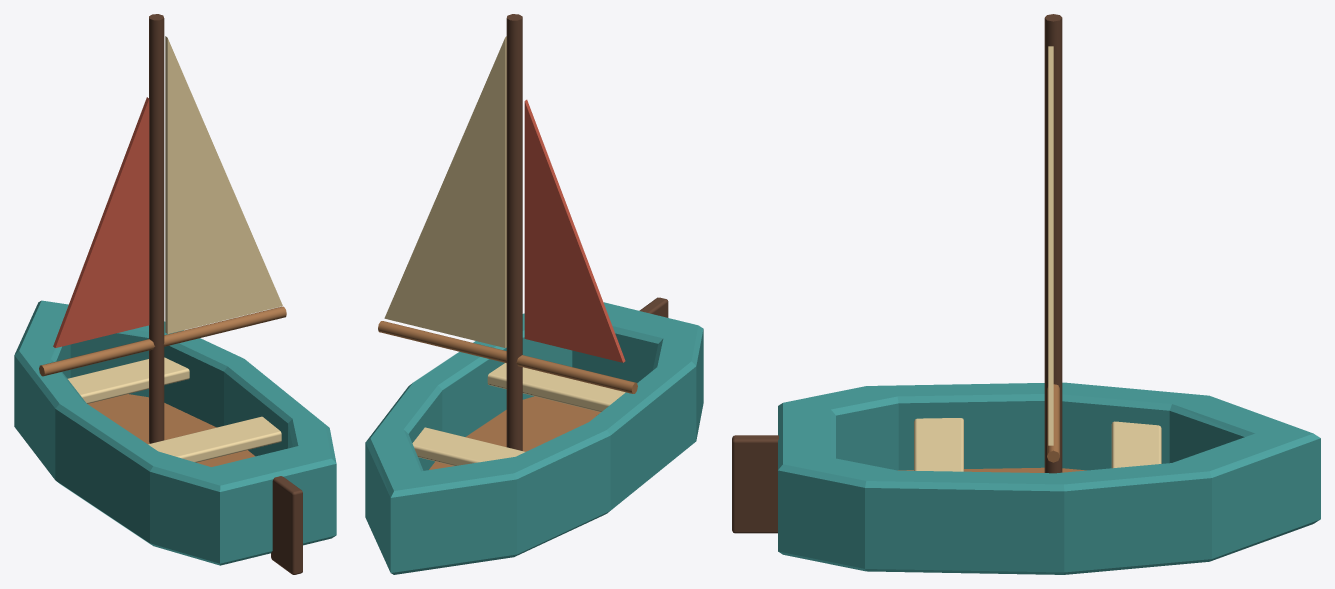
Rendered from coastal-sailboat.glb.
3 renders of one model, left to right at view 1: azimuth 30°, elevation 25°; view 2: azimuth 150°, elevation 25°; view 3: azimuth 270°, elevation 25°, orthographic. The views are drawn at different scales.
Parts seen in each view (by area): view 1: teal-hull, cream-sail, coral-sail, mast, seat-0.4, hull-floor, boom, rudder, seat--0.55; view 2: teal-hull, cream-sail, coral-sail, mast, hull-floor, boom, seat-0.4, seat--0.55; view 3: teal-hull, mast, rudder, seat-0.4, cream-sail, seat--0.55, boom.
Part boxes in pixels (x1,y1,x2,y2): teal-hull: (14, 300, 336, 565); cream-sail: (165, 36, 282, 333); coral-sail: (53, 97, 149, 347); mast: (149, 14, 164, 443); seat-0.4: (148, 416, 281, 462); hull-floor: (88, 394, 255, 466); boom: (39, 306, 286, 376); rudder: (271, 476, 302, 574); seat--0.55: (68, 357, 189, 403); teal-hull: (365, 302, 703, 574); cream-sail: (384, 36, 506, 347); coral-sail: (524, 99, 625, 362); mast: (506, 14, 522, 450); hull-floor: (429, 396, 600, 469); boom: (378, 321, 637, 393); seat-0.4: (487, 363, 625, 412); seat--0.55: (412, 427, 525, 465); teal-hull: (778, 382, 1320, 574); mast: (1044, 14, 1062, 473); rudder: (732, 435, 778, 533); seat-0.4: (914, 418, 963, 471); cream-sail: (1048, 46, 1053, 445); seat--0.55: (1111, 421, 1161, 468); boom: (1047, 384, 1059, 462).
Size of the model in its own units: 1.52 by 2.72 by 2.83.
